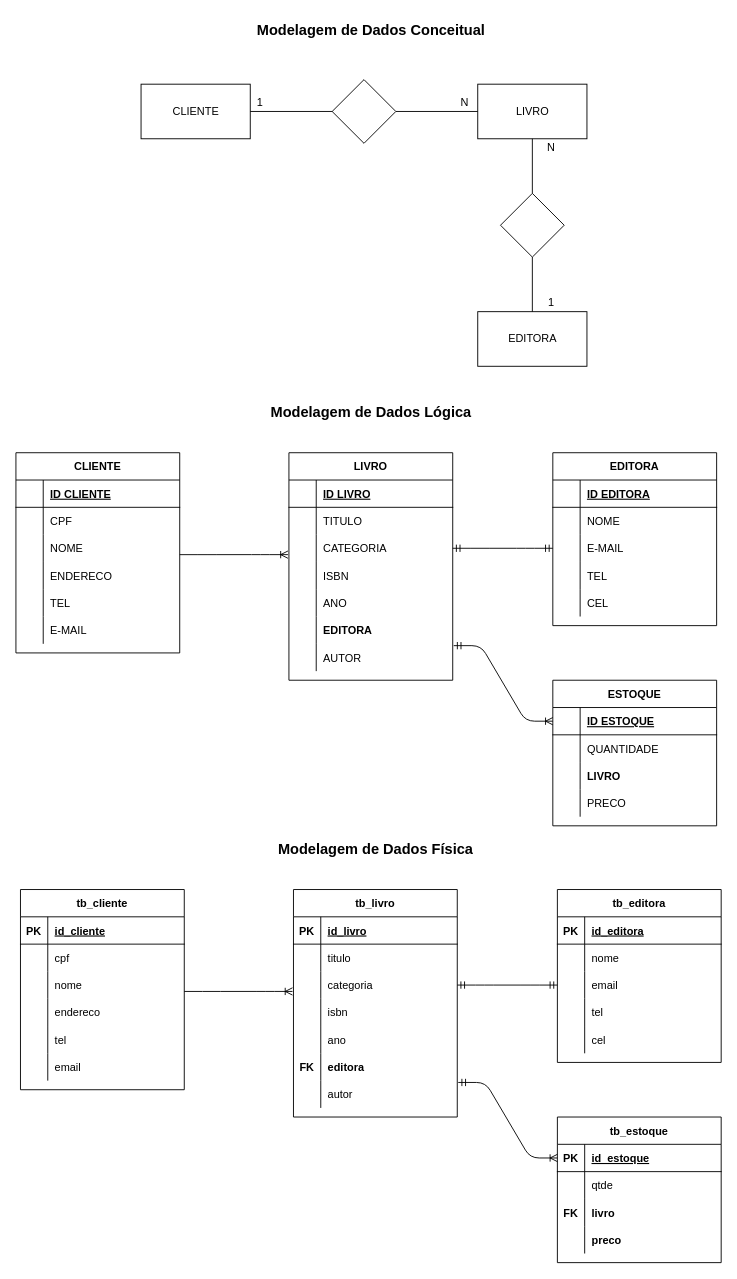
This 737x1279 diagram has some shape labels left out. The shapes that lost their labels are listed below. From the top down, each one's centre as x and y in pixels, then its label:
pixel 363 111: COMPRA
pixel 532 224: FORNECE
